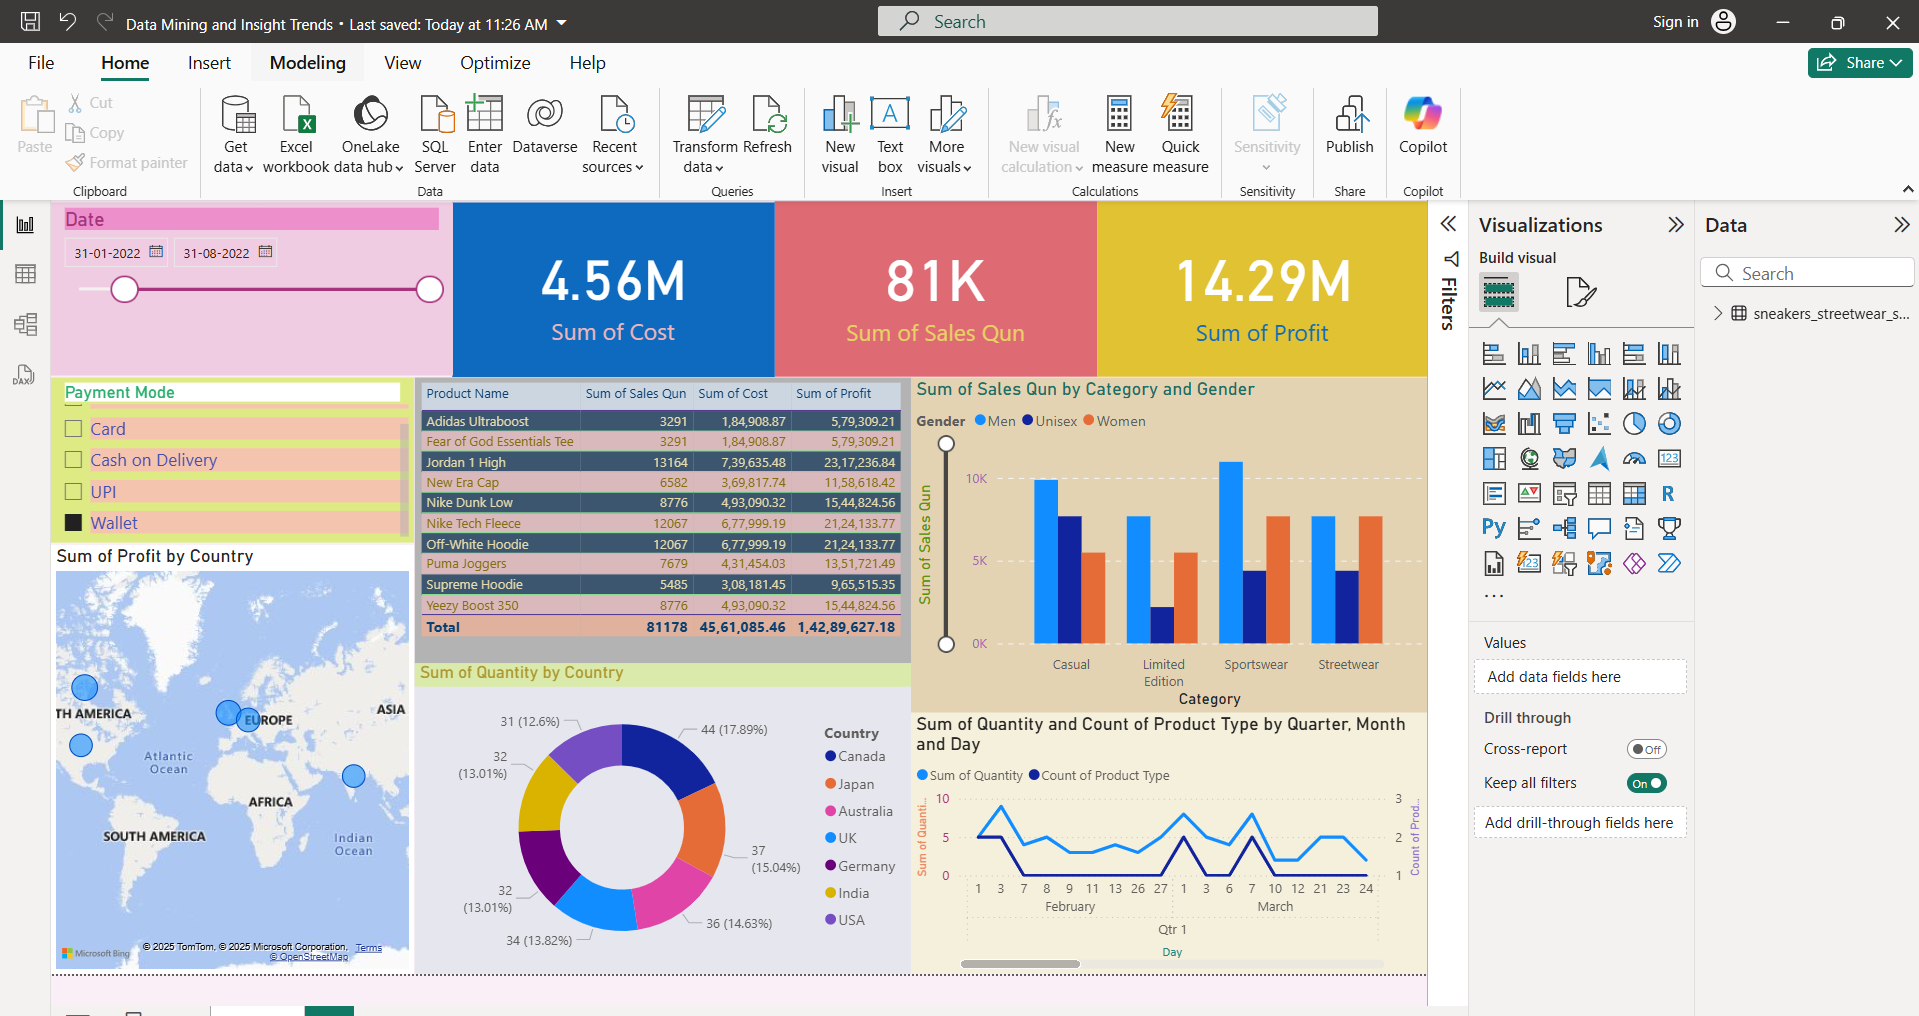

What the dashboard file says about the page in this screenshot:
{"tool":"powerbi","page":{"name":"Page 1","canvas":[1280,720],"ordinal":0},"visuals":[{"type":"card","fields":{"Values":["Sum(sneakers_streetwear_sales_data.Sum of Sales Quantity)"]},"box":[673.3,1.2,299.8,163.4],"z":0},{"type":"card","fields":{"Values":["Sum(sneakers_streetwear_sales_data.Sum of Cost Unit Price)"]},"box":[373.5,2.5,299.8,162.2],"z":1000},{"type":"card","fields":{"Values":["Sum(sneakers_streetwear_sales_data.Sum of Profit Amount)"]},"box":[973.1,1.2,307.2,163.4],"z":2000},{"type":"clusteredColumnChart","fields":{"Category":["sneakers_streetwear_sales_data.Category","sneakers_streetwear_sales_data.Date.Variation.Date Hierarchy.Year","sneakers_streetwear_sales_data.Date.Variation.Date Hierarchy.Quarter"],"Y":["Sum(sneakers_streetwear_sales_data.Sales Qun)"],"Series":["sneakers_streetwear_sales_data.Gender"]},"box":[800,165.1,480.2,311.6],"z":3000},{"type":"lineChart","fields":{"Category":["sneakers_streetwear_sales_data.Date.Variation.Date Hierarchy.Quarter","sneakers_streetwear_sales_data.Date.Variation.Date Hierarchy.Month","sneakers_streetwear_sales_data.Date.Variation.Date Hierarchy.Day"],"Y2":["CountNonNull(sneakers_streetwear_sales_data.Product Type)"],"Y":["Sum(sneakers_streetwear_sales_data.Quantity)"]},"box":[799.8,476.7,480.4,243.3],"z":4000},{"type":"donutChart","fields":{"Y":["Sum(sneakers_streetwear_sales_data.Quantity)"],"Category":["sneakers_streetwear_sales_data.Country"]},"box":[337.9,430,462,290],"z":5000},{"type":"tableEx","fields":{"Values":["sneakers_streetwear_sales_data.Product Name","Sum(sneakers_streetwear_sales_data.Sales Quantity)","Sum(sneakers_streetwear_sales_data.Cost Unit Price)","Sum(sneakers_streetwear_sales_data.Profit Amount)"]},"box":[337.9,164.6,462,265.4],"z":6000},{"type":"map","fields":{"Category":["sneakers_streetwear_sales_data.Country"],"Size":["Sum(sneakers_streetwear_sales_data.Profit)"]},"box":[0,320.7,337.9,399.3],"z":7000},{"type":"slicer","fields":{"Values":["sneakers_streetwear_sales_data.Payment Mode"]},"box":[0,164.6,337.9,153.6],"z":8000},{"type":"slicer","fields":{"Values":["sneakers_streetwear_sales_data.Date"]},"box":[0,2.5,373.5,161],"z":9000}]}

Visuals, with their boxes on the page's 1280x720 design canvas (x1, y1, x2, y2). These are canvas units, not pixel positions in the 1919x1016 screenshot, which may show the page scaled, cropped or inside an application window:
card - Sum(sneakers_streetwear_sales_data.Sum of Sales Quantity): detection(673, 1, 973, 165)
card - Sum(sneakers_streetwear_sales_data.Sum of Cost Unit Price): detection(374, 2, 673, 165)
card - Sum(sneakers_streetwear_sales_data.Sum of Profit Amount): detection(973, 1, 1280, 165)
clusteredColumnChart - sneakers_streetwear_sales_data.Category x sneakers_streetwear_sales_data.Date.Variation.Date Hierarchy.Year: detection(800, 165, 1280, 477)
lineChart - sneakers_streetwear_sales_data.Date.Variation.Date Hierarchy.Quarter x sneakers_streetwear_sales_data.Date.Variation.Date Hierarchy.Month: detection(800, 477, 1280, 720)
donutChart - Sum(sneakers_streetwear_sales_data.Quantity) x sneakers_streetwear_sales_data.Country: detection(338, 430, 800, 720)
tableEx - sneakers_streetwear_sales_data.Product Name x Sum(sneakers_streetwear_sales_data.Sales Quantity): detection(338, 165, 800, 430)
map - sneakers_streetwear_sales_data.Country x Sum(sneakers_streetwear_sales_data.Profit): detection(0, 321, 338, 720)
slicer - sneakers_streetwear_sales_data.Payment Mode: detection(0, 165, 338, 318)
slicer - sneakers_streetwear_sales_data.Date: detection(0, 2, 374, 164)
